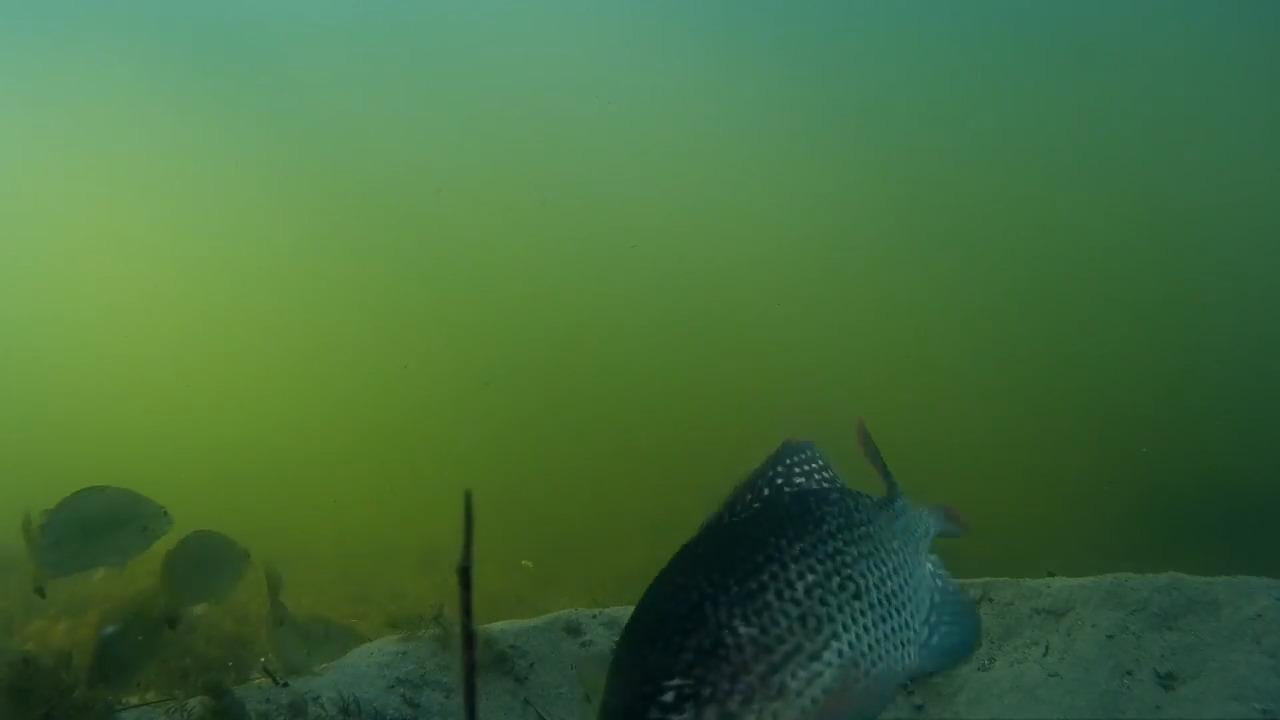Tilapia: (590, 417, 998, 720), (7, 474, 164, 586), (153, 514, 267, 614)
